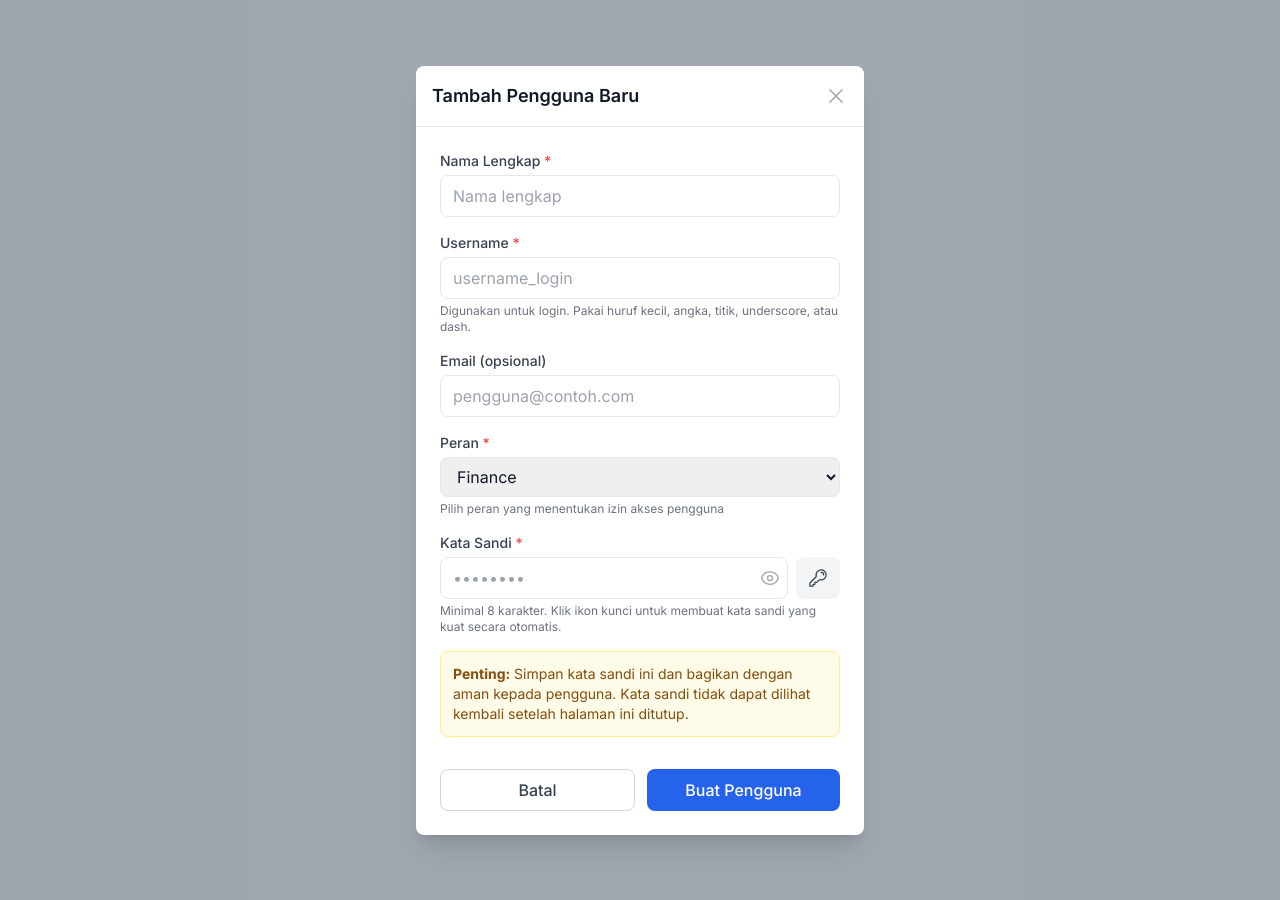
Test case: User management username validation › shows inline username error in create modal when username already exists
In the field labelled "Nama Lengkap *": (640, 196) [440,174,840,216], type "Operator Tirta"
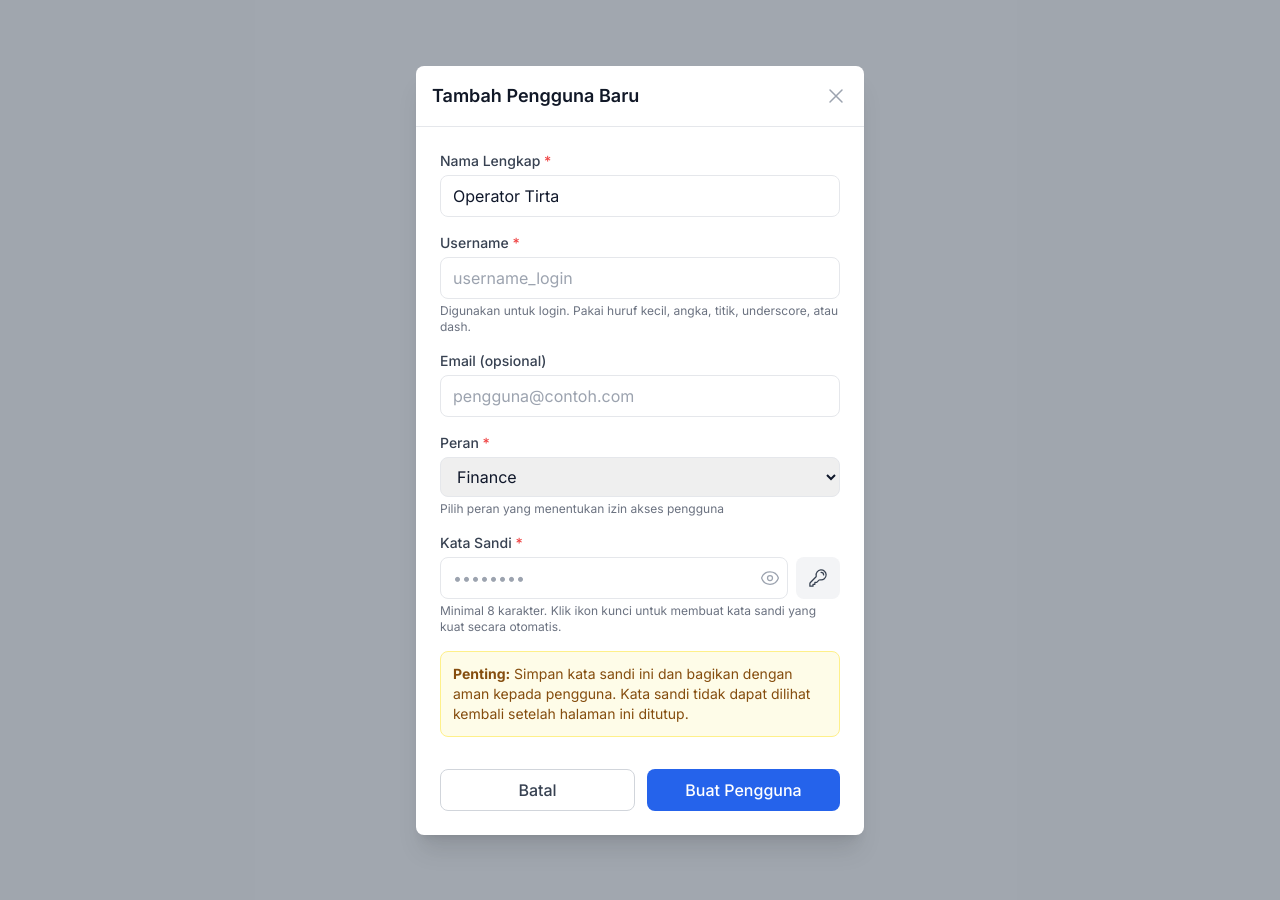
In the field labelled "Username *": (640, 278) [440,256,840,298], type "operator.tirta"
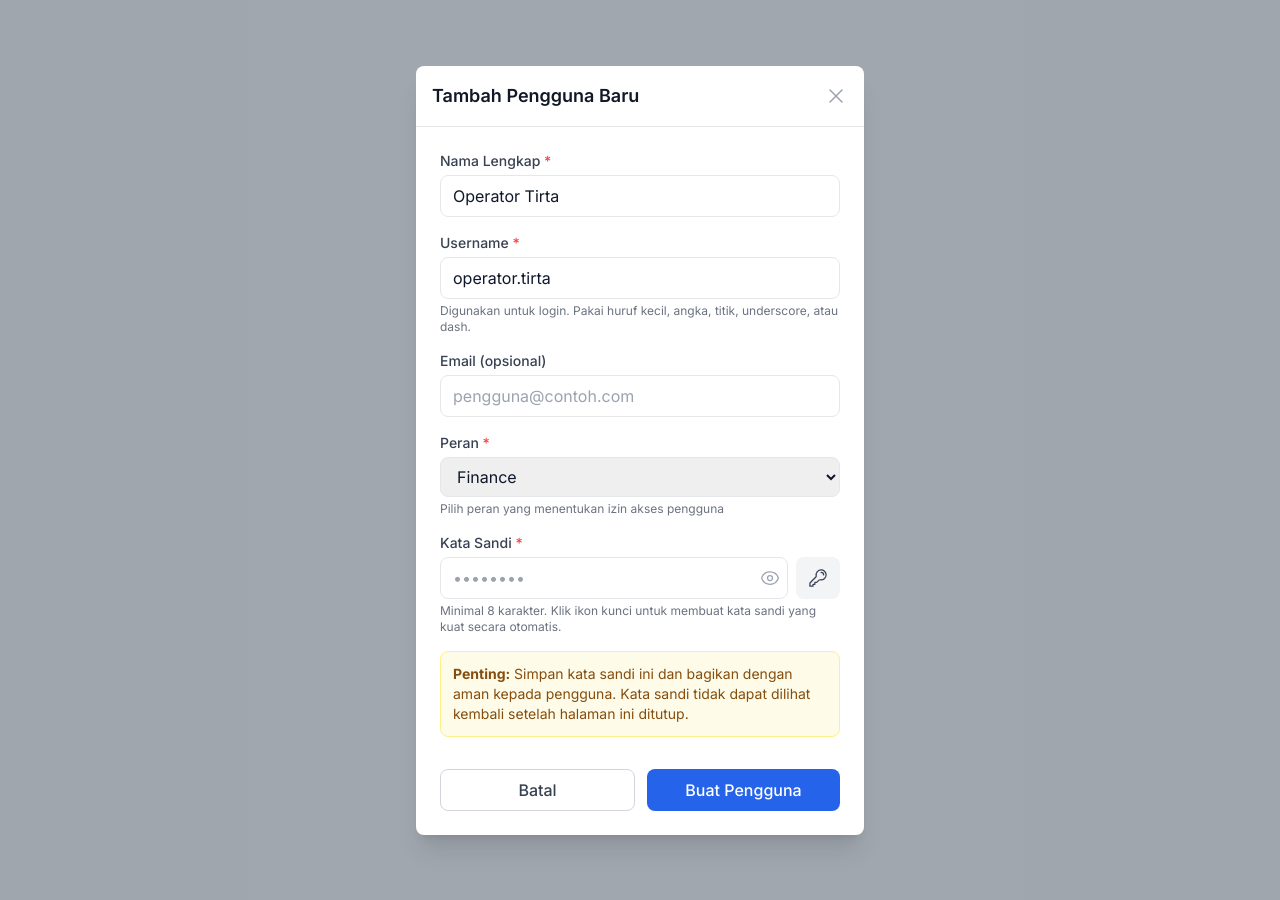
In the password field with placeholder "••••••••": (614, 578) [440,556,788,598], type "password123"
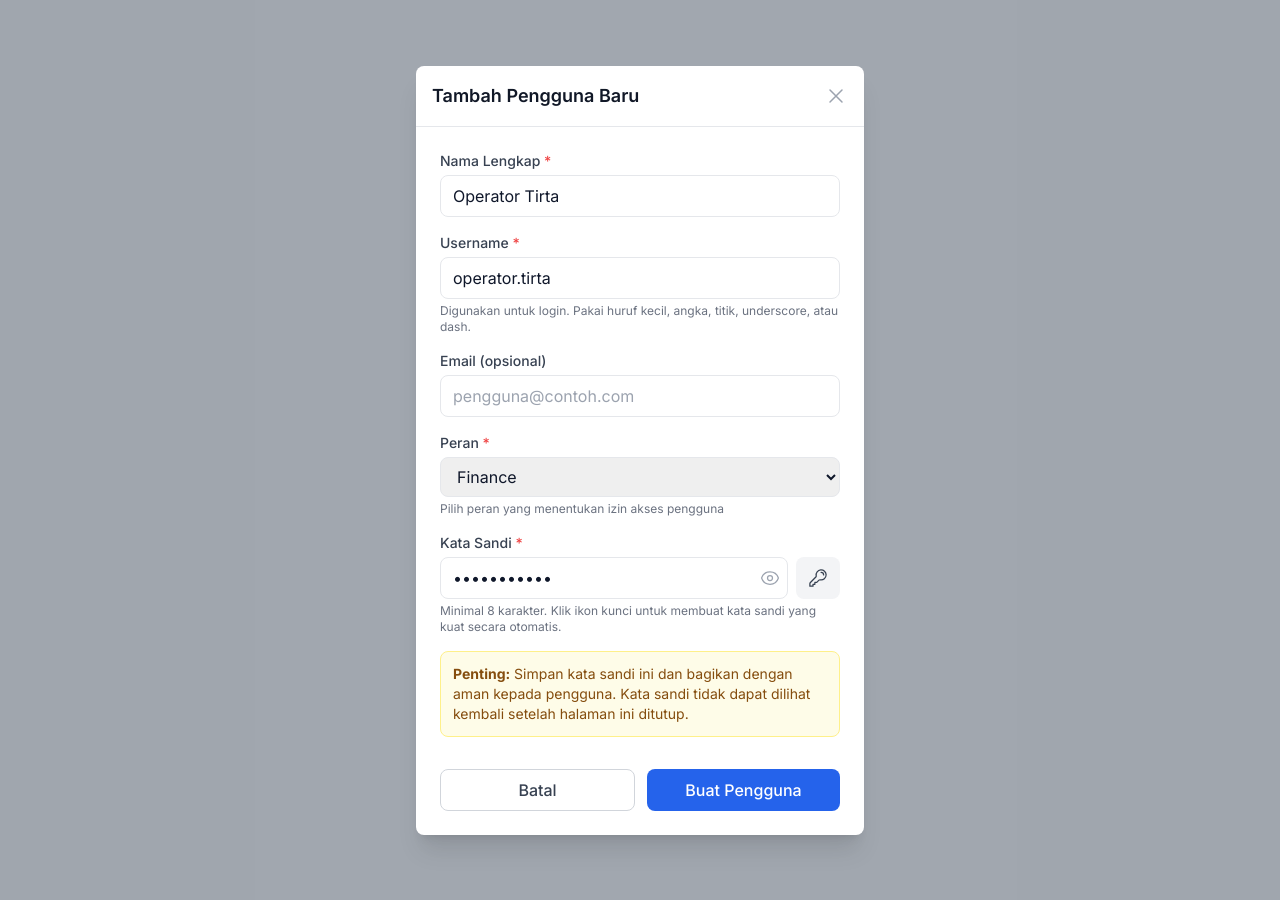
Click the button "Buat Pengguna": (744, 790) [647,768,840,810]
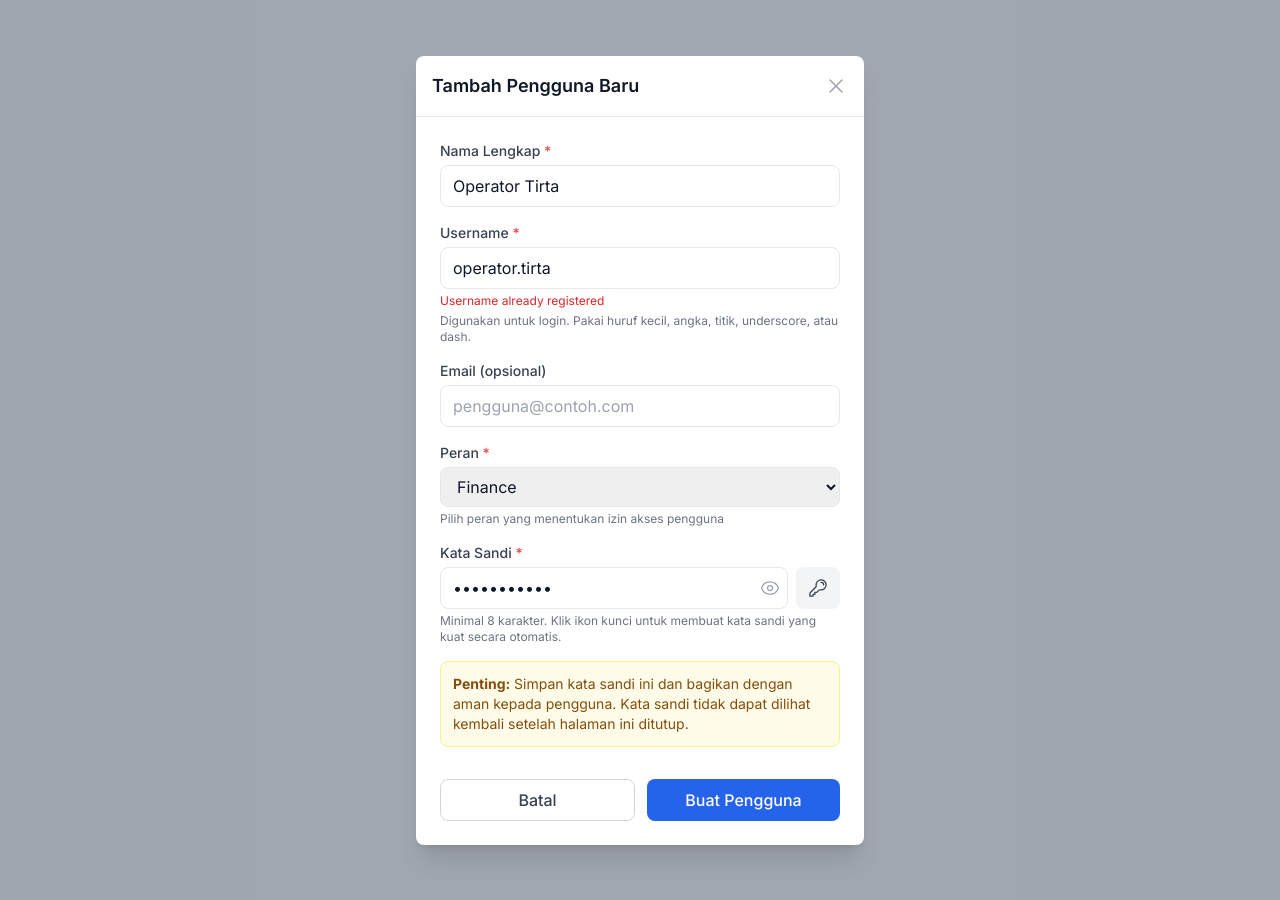
Now the text "Username already registered" is shown, box [440,292,604,308]
